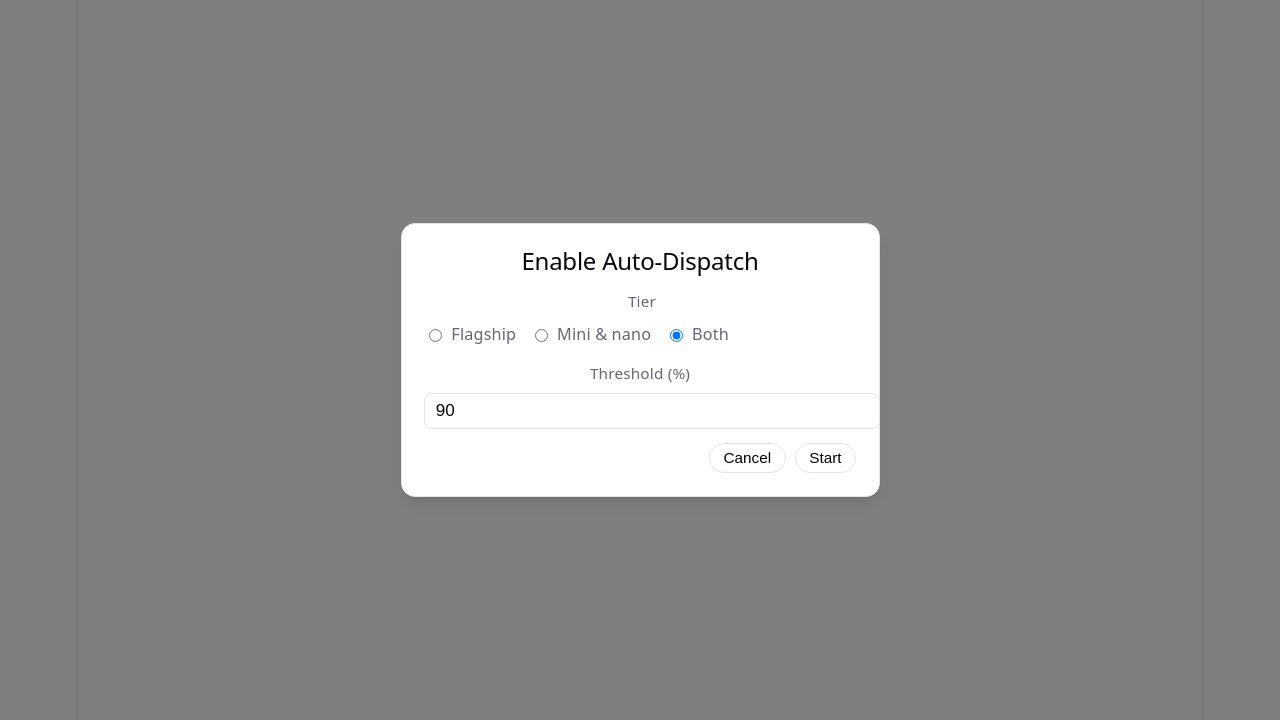
Test case: FreeTierDispatchModal › shows the backend's error message and stays open when a single-tier start fails
Click the radio button labelled "Flagship" at (436, 335), box x1=429 y1=329 x2=442 y2=342
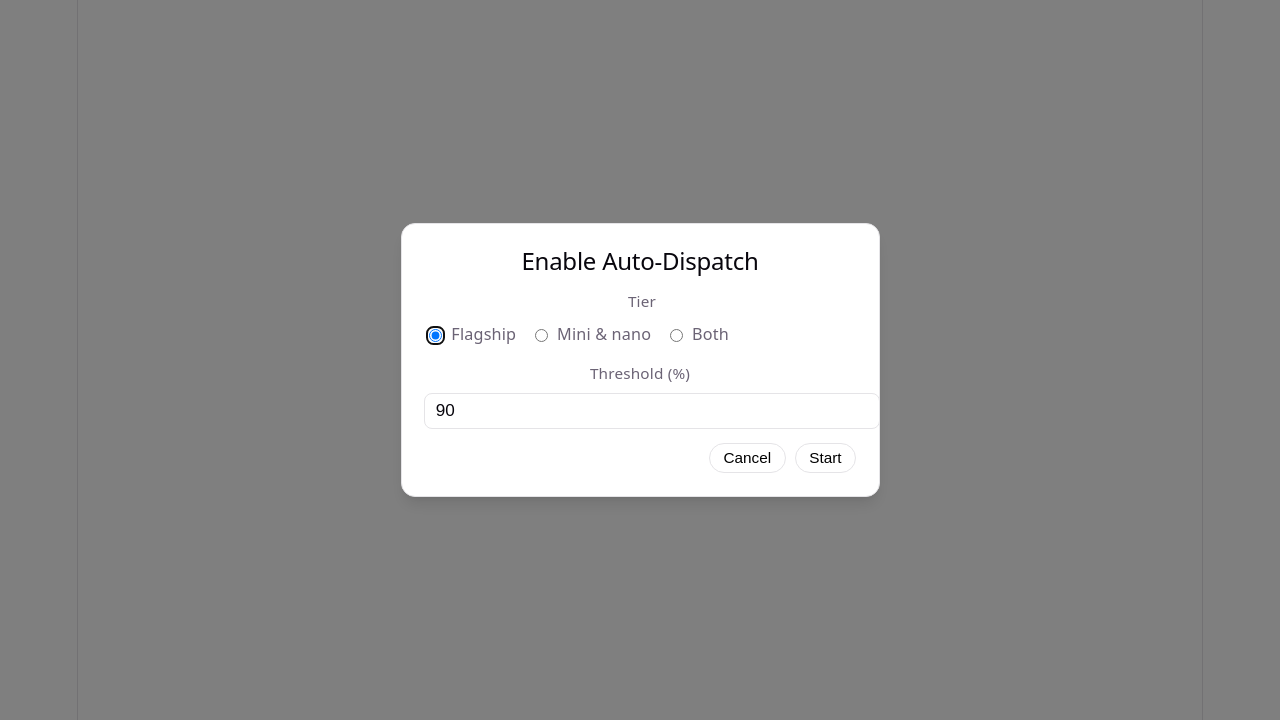
Click the button "Start" at (825, 458), box x1=795 y1=443 x2=856 y2=473
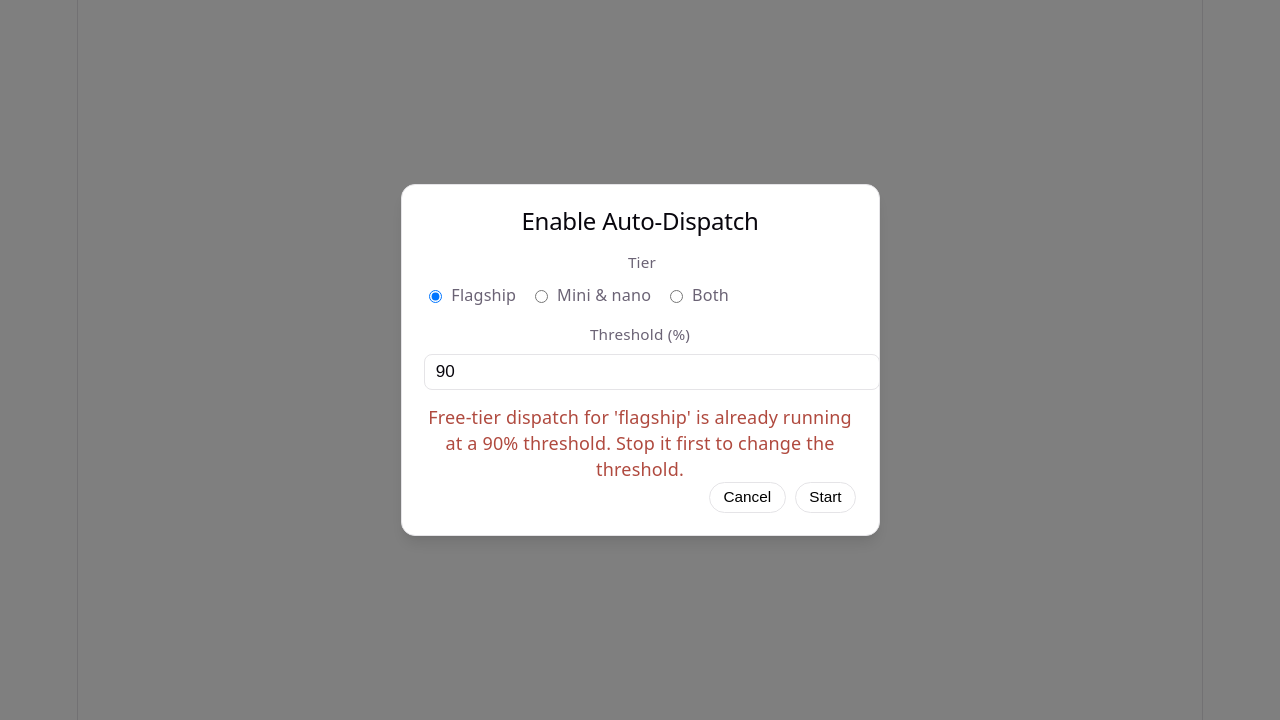
Expected: the text "already running at a 90% threshold" is shown, x1=428 y1=404 x2=852 y2=481
